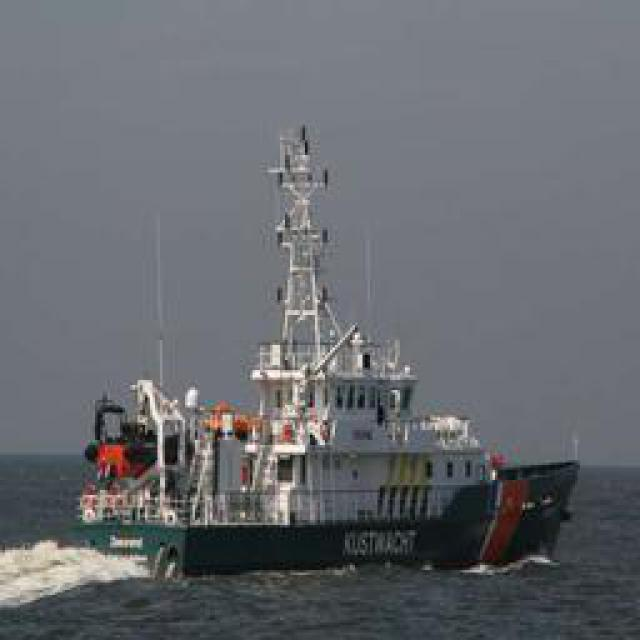Ship: (75, 130, 555, 573)
